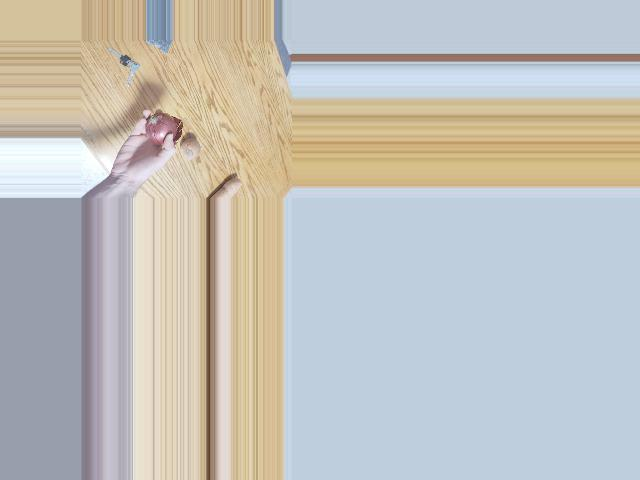onion: (171, 138, 202, 159)
